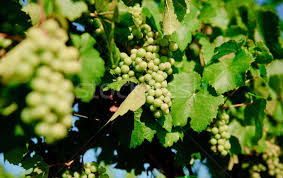grapes: (111, 28, 184, 125)
